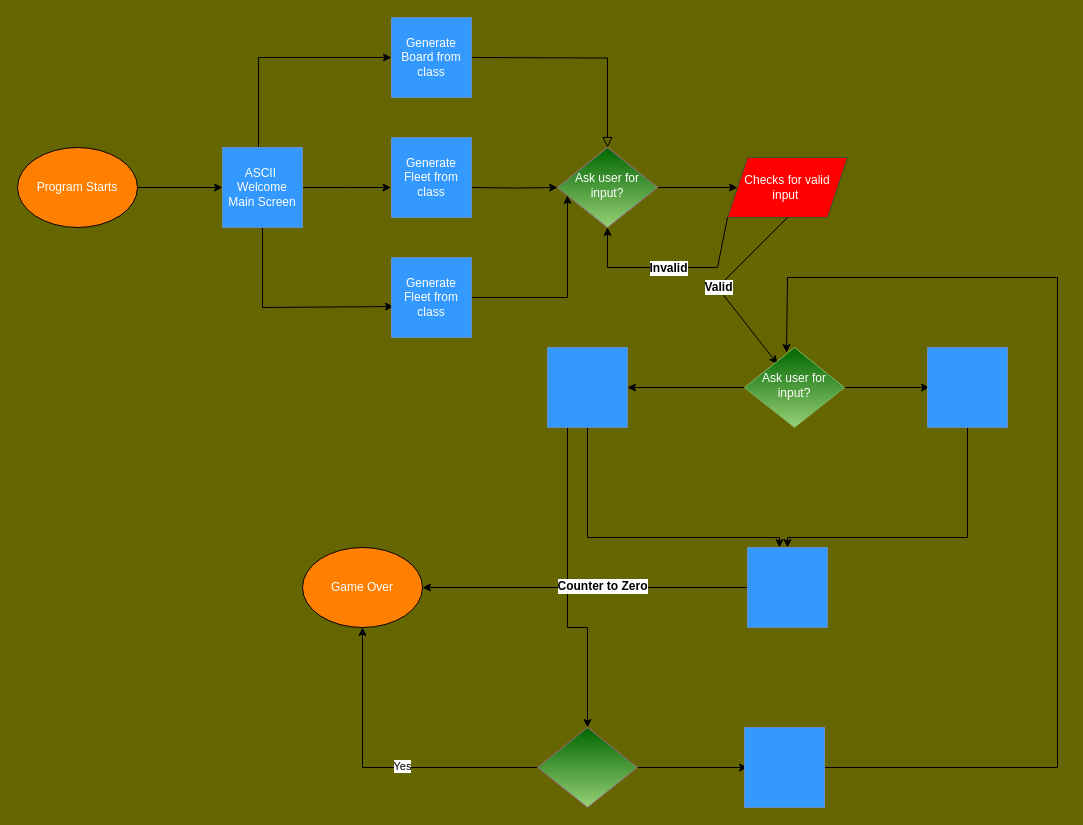
Image size: 1083x825. Some labels were removed from this diagram. The shapes that lost their labels are listed below. From the top down, each one's centre as x and y in pixels, then its label:
At point (587, 387): "Place 'X' on selected co_ordinate".
At point (967, 387): "Place on selected co_ordiate".
At point (787, 587): "Decrease missile counter".
At point (587, 767): "Checks if all ships sunk?".
At point (784, 767): "Generate Computer shot".
